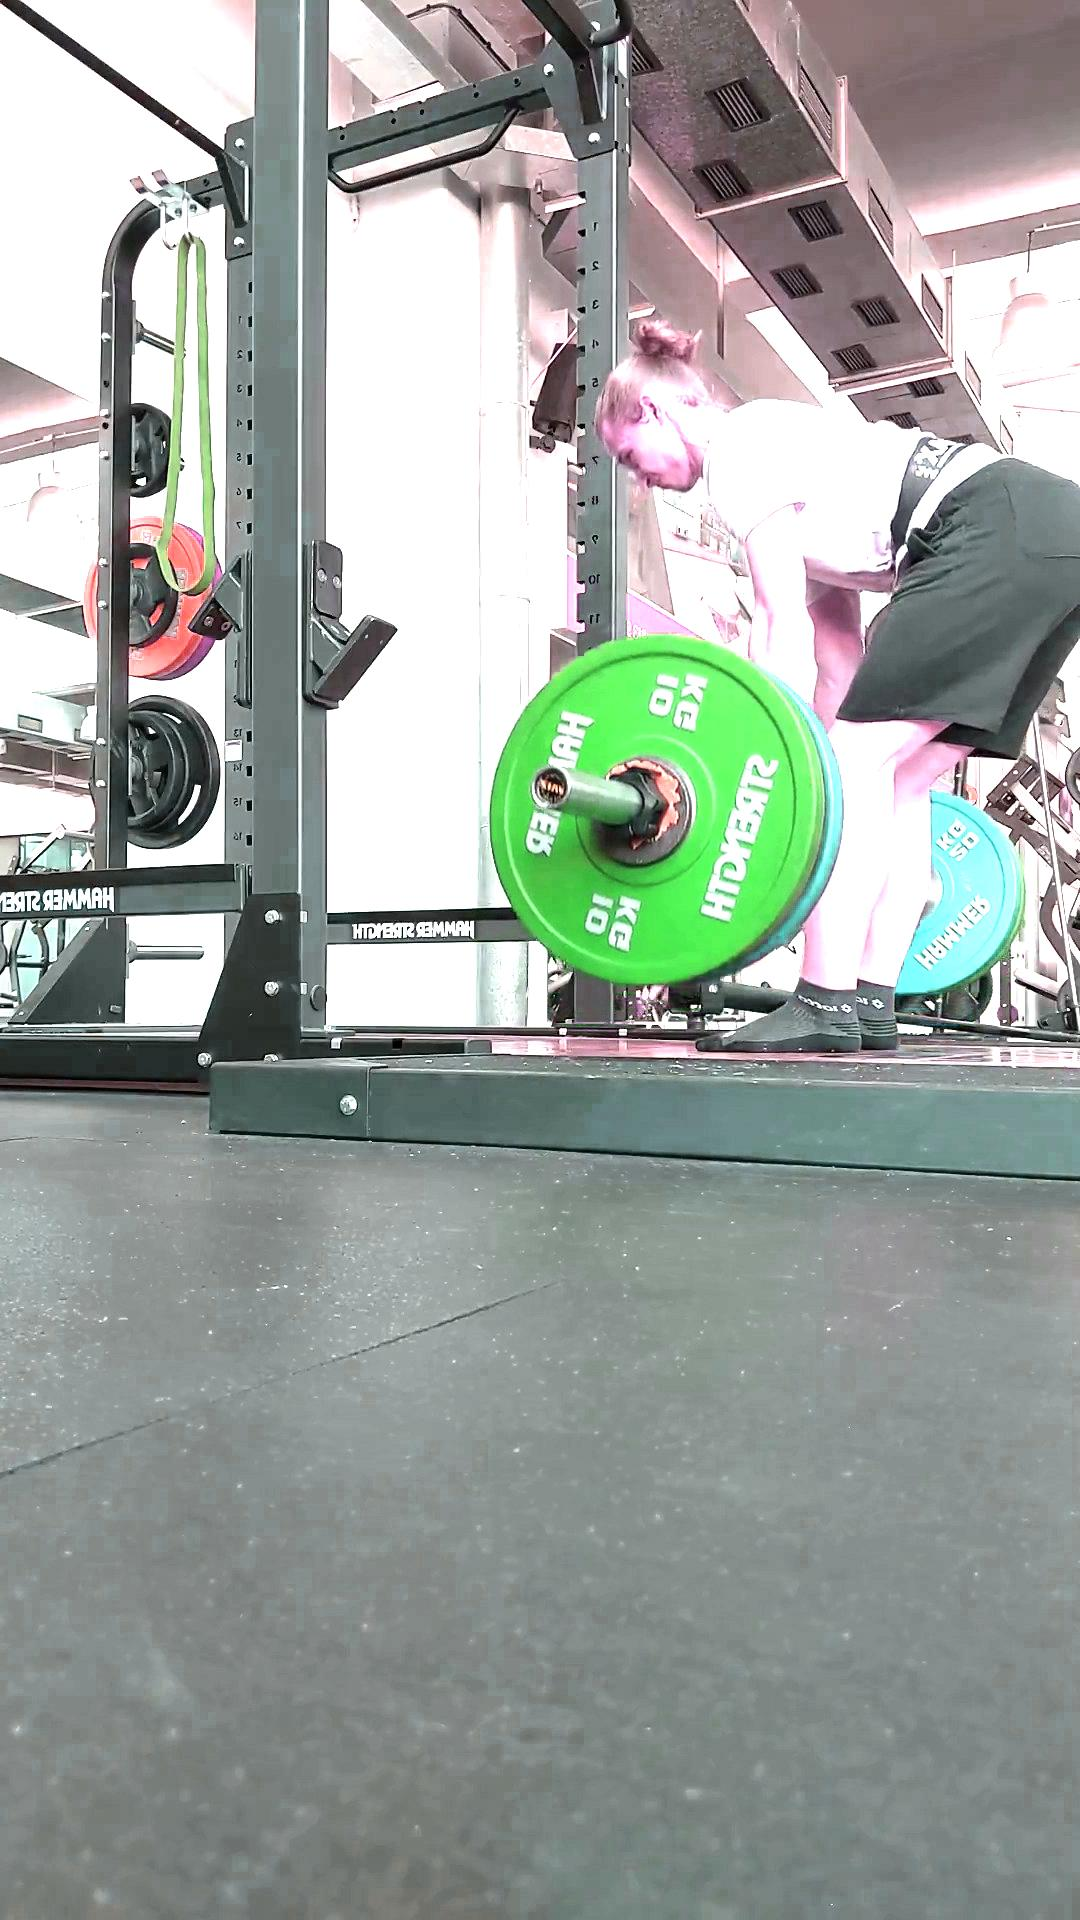barbell: (491, 633, 818, 982), (1064, 745, 1080, 802)
